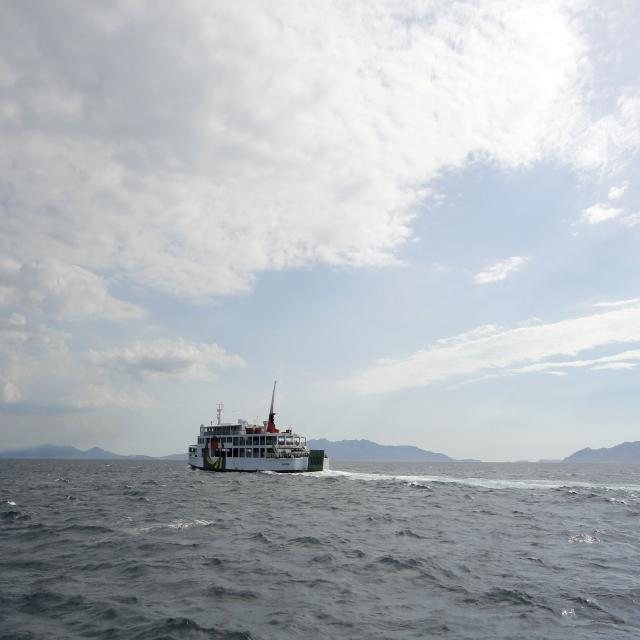passenger ship: (189, 383, 351, 483)
